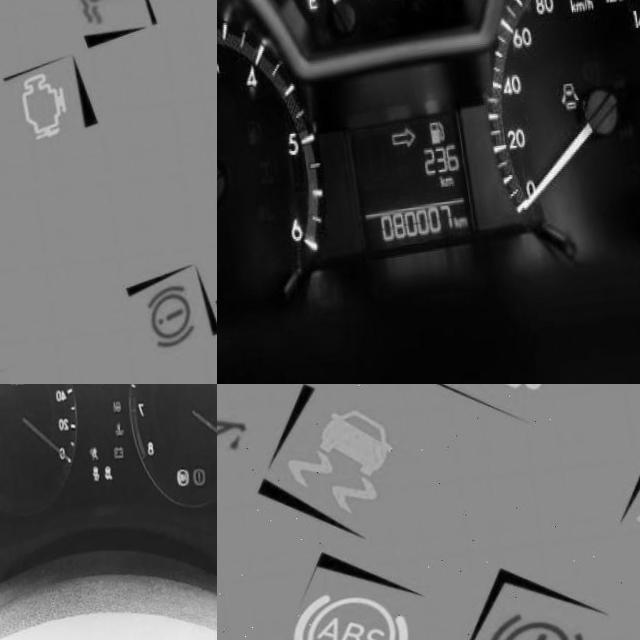Electronic Power Steering: (105, 408, 116, 422)
High Engine Coolant Temperature: (107, 430, 117, 445)
